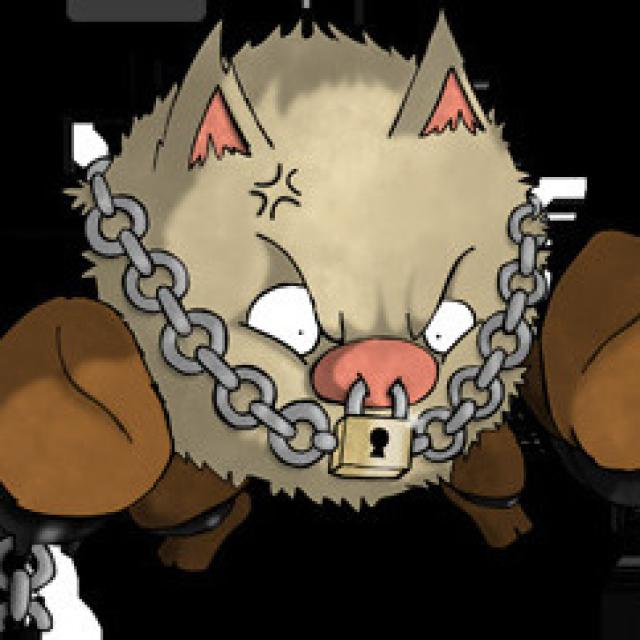Primeape: (65, 42, 587, 546)
